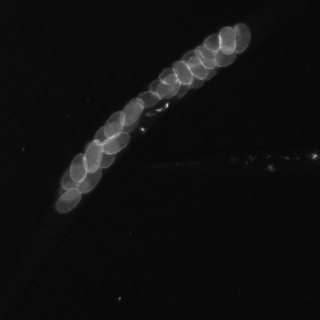embryo: (120, 101, 143, 133), (61, 163, 88, 190), (78, 165, 103, 194), (55, 187, 82, 213), (95, 140, 120, 168), (120, 98, 144, 127), (101, 132, 131, 155), (84, 139, 104, 172), (103, 110, 126, 138), (94, 123, 122, 146), (156, 74, 181, 99), (213, 44, 237, 68), (70, 152, 88, 182), (172, 60, 194, 84), (218, 26, 236, 55), (149, 79, 175, 99), (195, 46, 216, 69), (181, 50, 206, 69), (188, 56, 208, 79), (137, 90, 161, 107), (236, 24, 250, 53), (158, 66, 179, 85), (204, 34, 223, 52)
